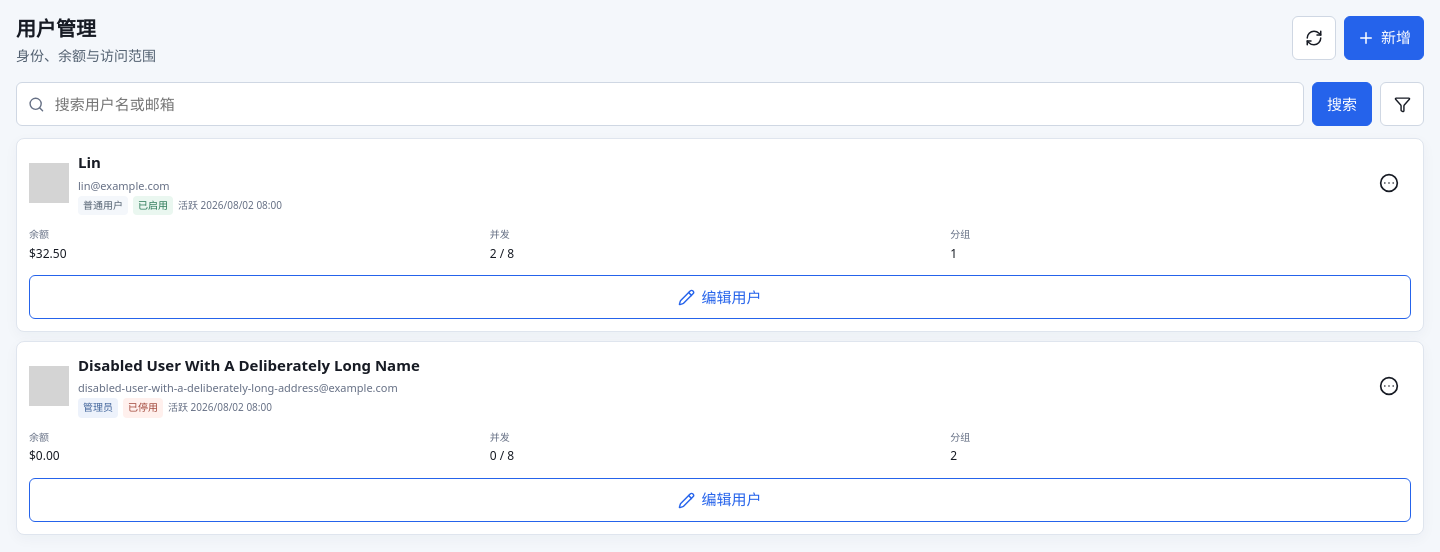
Test: MobileAdminUsersView › keeps Edit visible and places secondary actions in the per-card overflow menu
expect the button with test id "edit-user-7" is shown: met, box [29,275,1411,319]
Click the button with test id "user-menu-trigger-7": (1389, 183) [1367,161,1411,205]
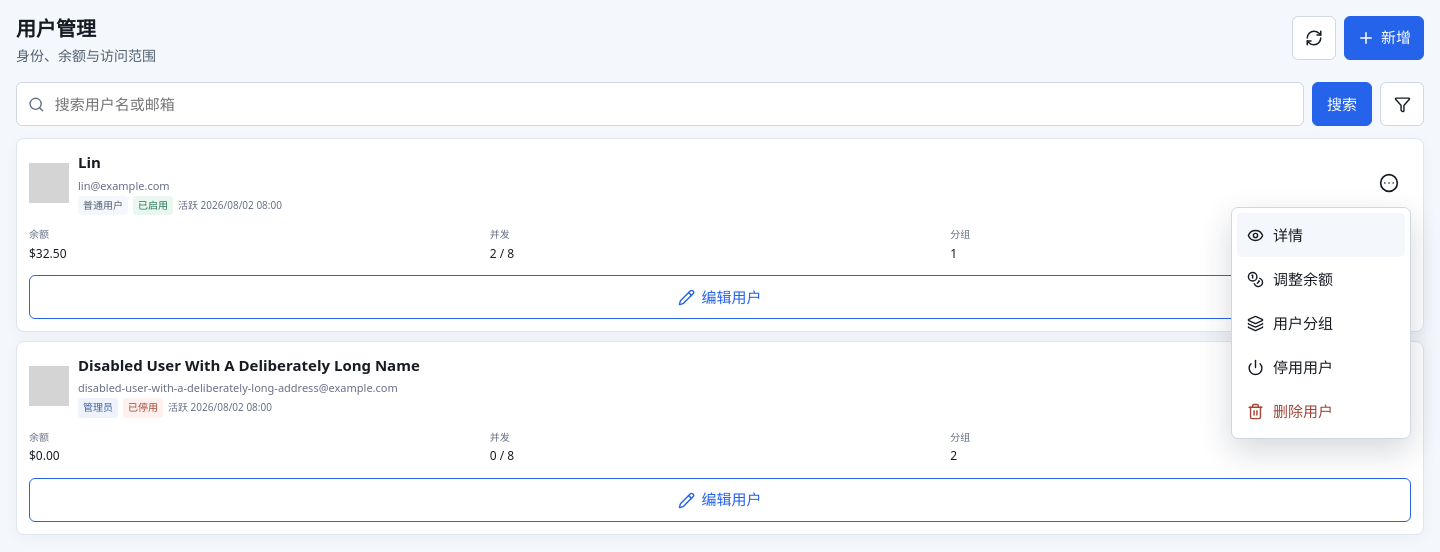
expect the menu with test id "user-menu-7" shows "详情": met, box [1237,213,1405,257]
expect the menu with test id "user-menu-7" shows "余额": met, box [1231,207,1411,439]
expect the menu with test id "user-menu-7" shows "分组": met, box [1231,207,1411,439]
